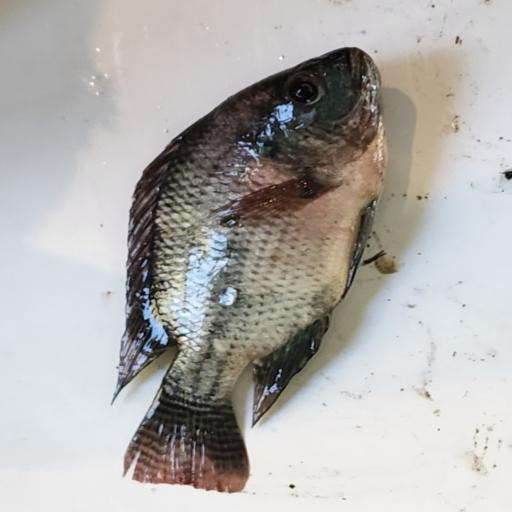Tilapia: (110, 47, 388, 494)
